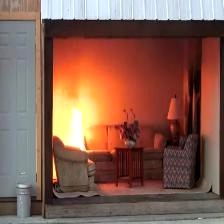fire: (56, 90, 94, 141)
